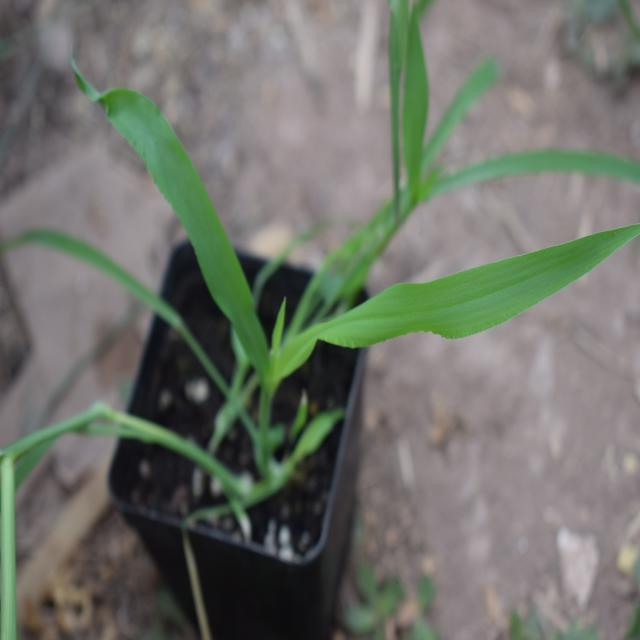crabgrass: (22, 25, 581, 427)
